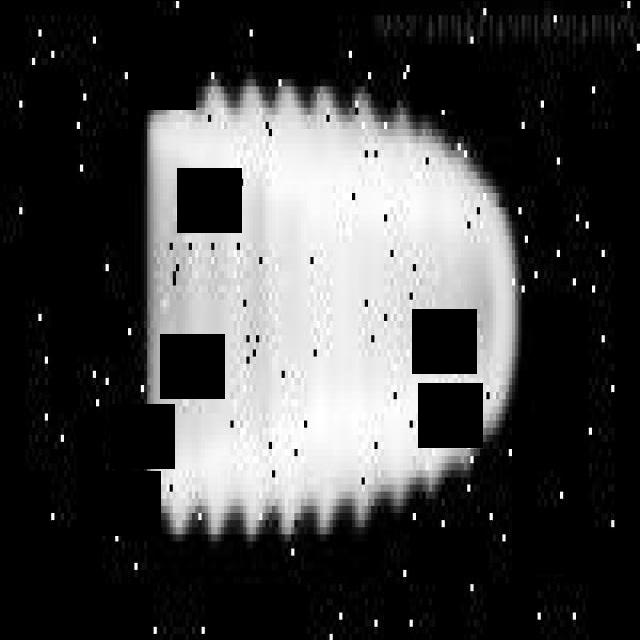Titan Implant Implant: (147, 85, 528, 533)
